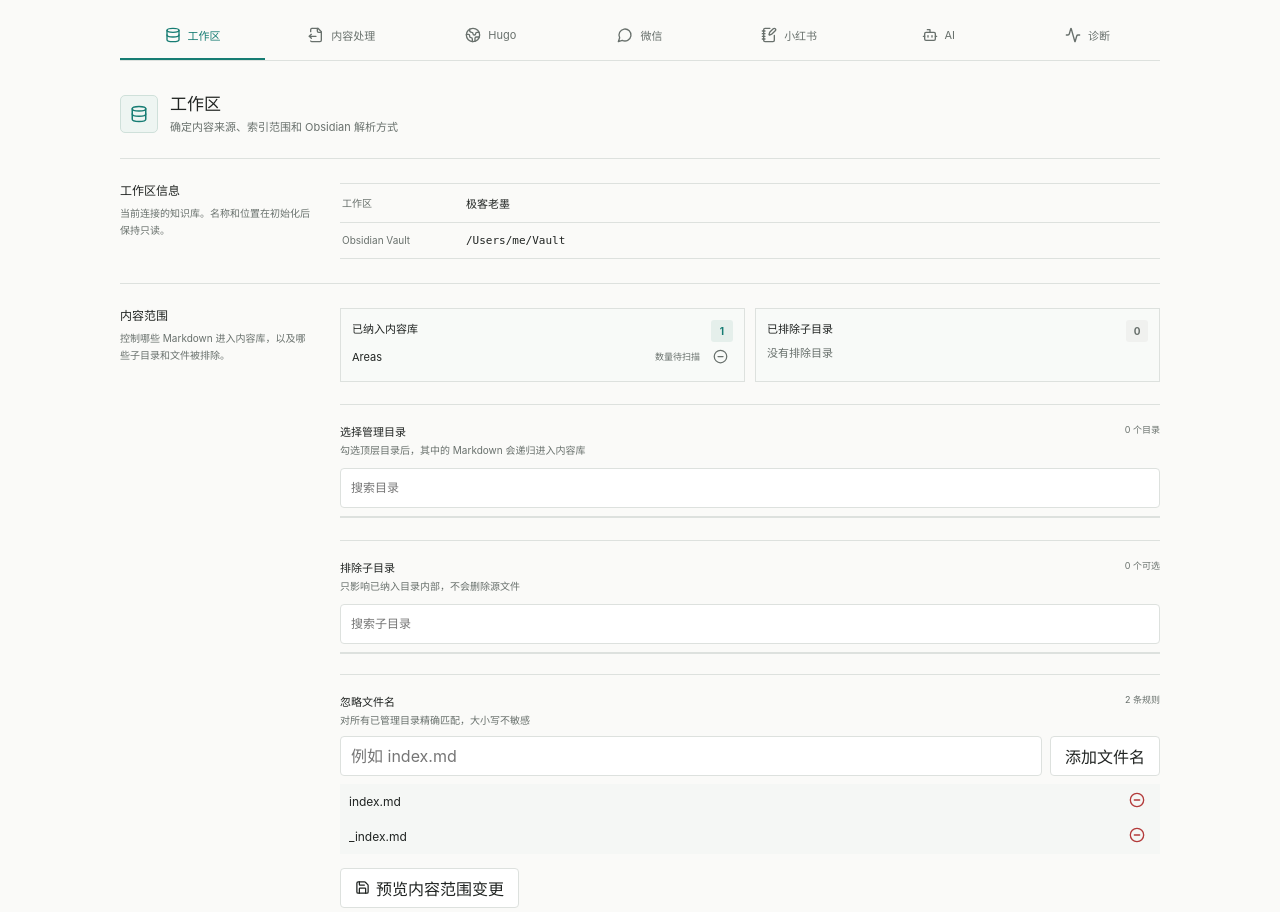
Scenario: 重新诊断会再次请求设置并刷新诊断结果
The width and height of the screenshot is (1280, 912).
Check: the text "极客老墨" is shown, box 466,197 -> 510,211
Click the tab "诊断". click: coordinates (1087, 36)
box: 1015,12 -> 1160,60
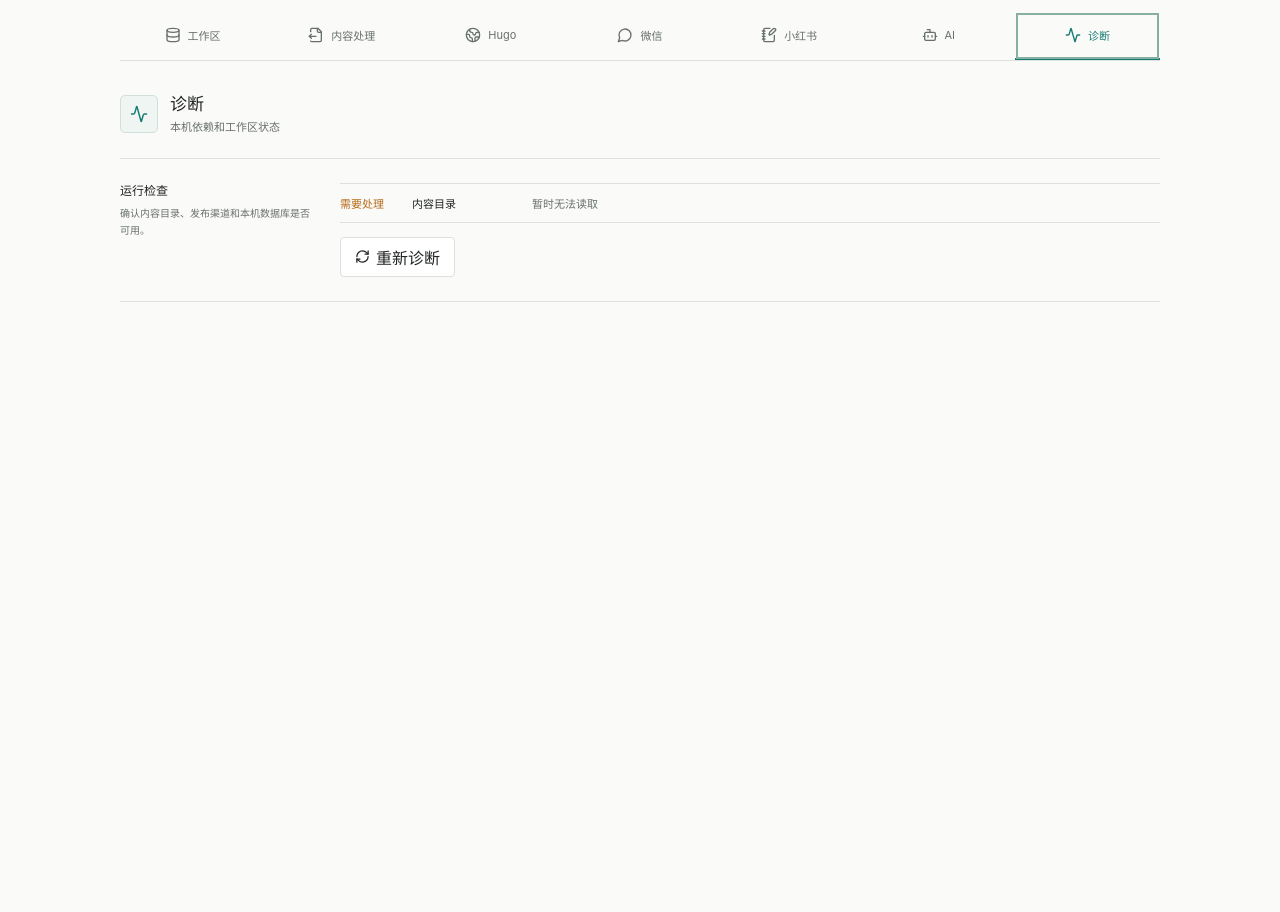
Check: the text "暂时无法读取" is shown, box 532,197 -> 598,211
Click the button "重新诊断". click: coordinates (398, 257)
box: 340,237 -> 455,277
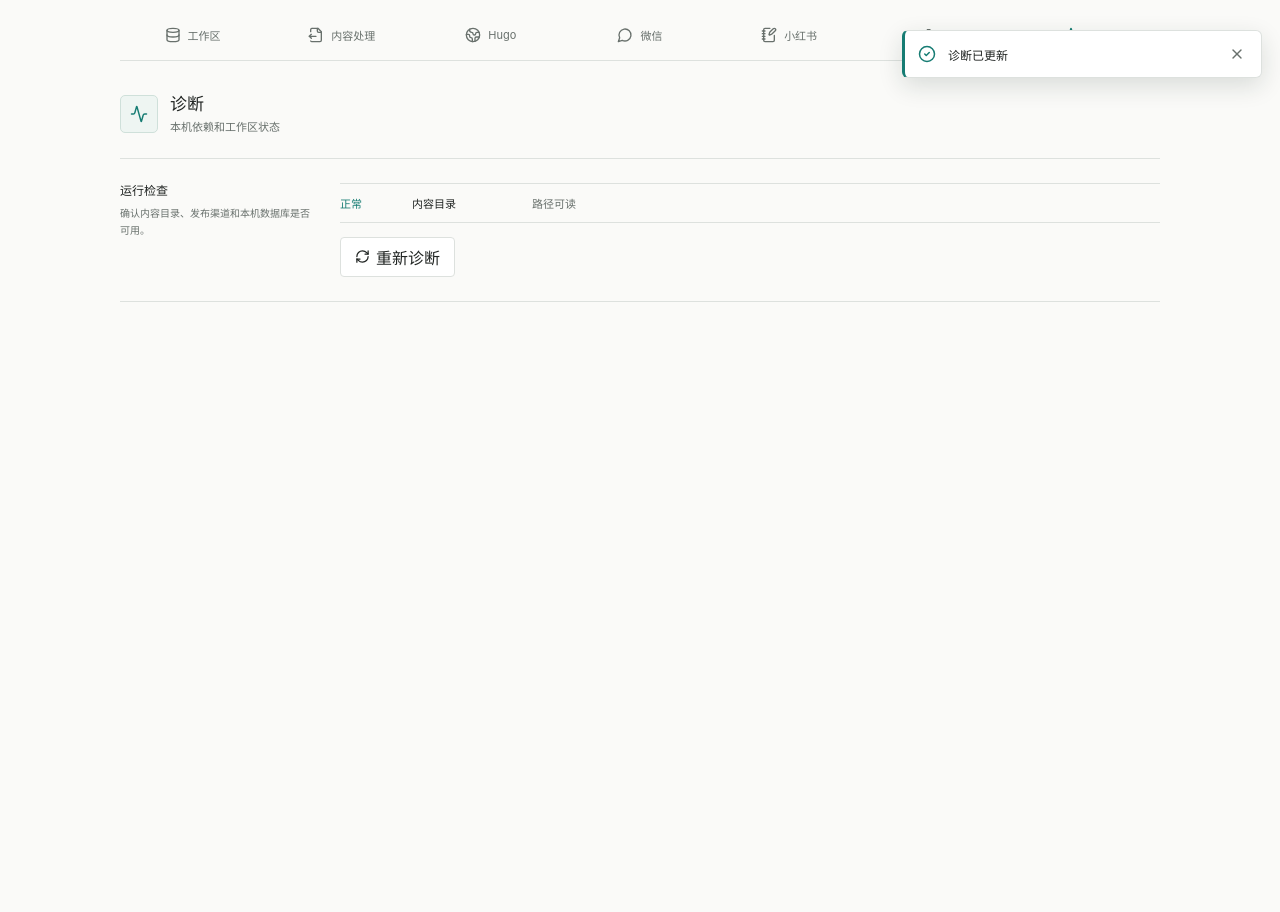
Check: the text "路径可读" is shown, box 532,197 -> 576,211
Check: the message reads "诊断已更新", box 948,48 -> 1008,62
